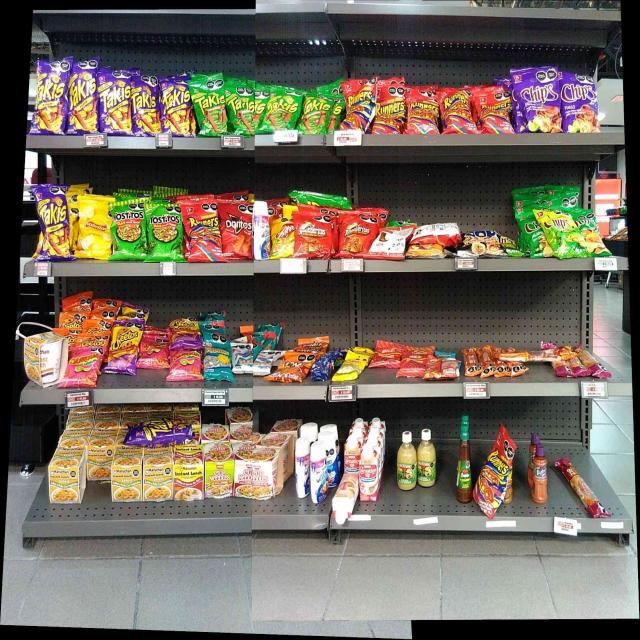bitzEnchilado90: (375, 343, 401, 367), (402, 350, 424, 378)
bitzEnchilado95: (506, 351, 574, 362), (494, 347, 506, 378), (464, 349, 478, 375), (480, 347, 492, 377)
bitzHabanero: (564, 462, 606, 516), (553, 363, 612, 379)
cheetosFlaminHot: (112, 320, 138, 374), (172, 318, 200, 346)
chipsFuego: (516, 69, 560, 132), (561, 71, 600, 132)
chipsJalapeno: (584, 210, 608, 256), (522, 214, 544, 257)
chipsPapatinas: (544, 210, 583, 257)
churrumais: (68, 348, 98, 386), (140, 331, 168, 367), (171, 351, 201, 379)
delPrimoSalsa: (397, 430, 416, 491), (418, 428, 437, 487)
doritosNacho: (220, 203, 252, 258)
fritosLimon: (273, 219, 293, 258)
leoCacahuates: (233, 343, 253, 372), (252, 351, 276, 374)
leoMix: (279, 353, 310, 381), (297, 337, 327, 351)
maruchanPollo: (49, 448, 86, 504), (25, 334, 63, 382), (113, 448, 142, 502), (144, 449, 172, 502)
maruchanRes: (174, 446, 202, 500)
nestleCarnation: (358, 446, 378, 501), (344, 438, 358, 471)
nestleLechera: (310, 442, 328, 503), (254, 200, 271, 260), (296, 438, 309, 498)
nissinCamaron: (204, 444, 233, 497)
nissinRes: (252, 449, 280, 501), (234, 442, 250, 498)
popKarameladas: (460, 231, 501, 257)
productoAtras: (375, 227, 411, 260), (334, 474, 357, 520), (416, 224, 458, 244), (426, 357, 457, 379), (313, 353, 337, 380)
rancheritos: (295, 212, 331, 258), (340, 218, 373, 255)
runners: (478, 436, 510, 514), (184, 203, 219, 261), (407, 89, 438, 134), (342, 84, 372, 130), (440, 91, 472, 133), (477, 94, 511, 132), (376, 86, 402, 134)
sabritasOriginal: (79, 200, 110, 260)
salsaBufalo: (455, 423, 473, 502)
semillasCalabaza: (339, 356, 364, 380)
semillasGirasol: (204, 347, 231, 381)
tajinDulce: (533, 445, 549, 504)
takisFuego: (35, 184, 72, 261), (37, 60, 65, 134), (69, 62, 97, 134), (100, 70, 131, 134), (128, 418, 192, 444), (161, 80, 190, 136), (132, 76, 159, 135)
takisOriginal: (193, 79, 224, 136), (228, 86, 254, 135), (268, 86, 296, 130), (304, 94, 328, 134)
tostitos: (147, 204, 182, 261), (112, 203, 146, 259)
